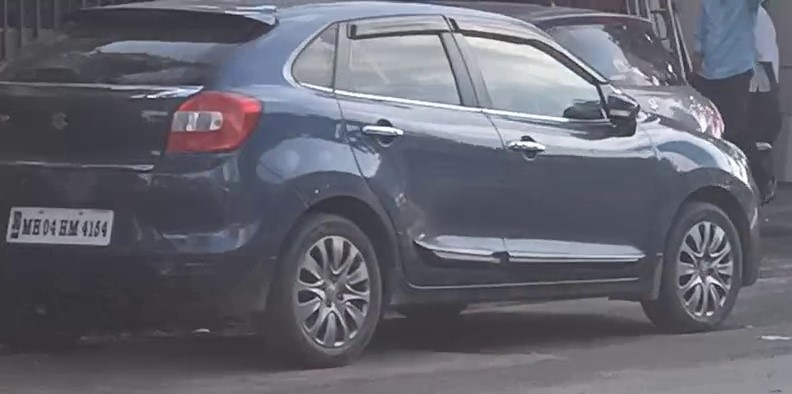MH04HM4154: (5, 205, 114, 245)
